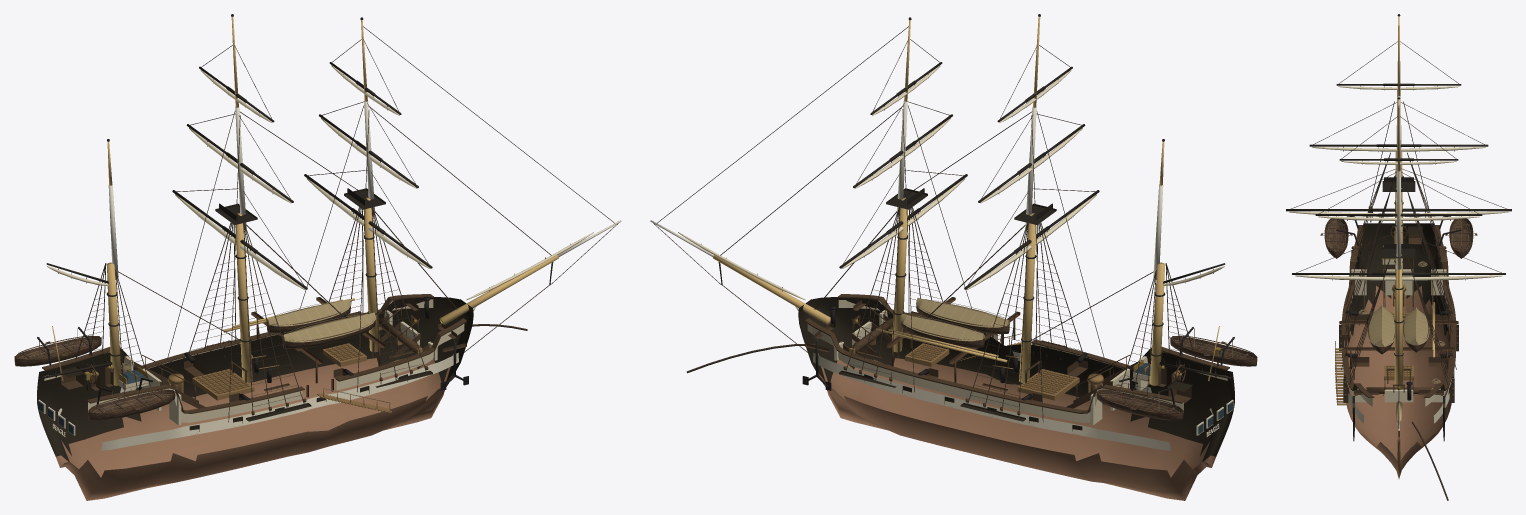
The model's file is hms-beagle-deck.glb.
The picture shows the model from 3 angles, left to right: view 1: azimuth 30°, elevation 25°; view 2: azimuth 150°, elevation 25°; view 3: azimuth 270°, elevation 25°; orthographic projection. The views are drawn at different scales.
Parts seen in each view (by area): view 1: BeagleHull, Beagle_RopeTar, Beagle_CapRail, Beagle_SparBuff, Beagle_BoatWood, Beagle_SparBlack, Beagle_BulwarkInner, Beagle_BandWhite, Beagle_Canvas, Beagle_BoatCanvas, Beagle_DeckTrim, Beagle_SparWhite (+4 smaller); view 2: BeagleHull, Beagle_RopeTar, Beagle_CapRail, Beagle_SparBuff, Beagle_BulwarkInner, Beagle_SparBlack, Beagle_BoatWood, Beagle_BandWhite, Beagle_Canvas, Beagle_BoatCanvas, Beagle_SparWhite, Beagle_DeckTrim (+4 smaller); view 3: BeagleHull, Beagle_RopeTar, Beagle_CapRail, Beagle_SparBlack, Beagle_Canvas, Beagle_SparBuff, Beagle_BoatWood, Beagle_BulwarkInner, Beagle_BoatCanvas, Beagle_BoatWoodDark, Beagle_DeckTrim, Beagle_IronBlack (+4 smaller).
Boxes of the visible parts, bbox=[...] form: BeagleHull: bbox=[37, 297, 473, 500]; Beagle_RopeTar: bbox=[58, 26, 618, 422]; Beagle_CapRail: bbox=[42, 294, 466, 414]; Beagle_SparBuff: bbox=[52, 16, 558, 385]; Beagle_BoatWood: bbox=[14, 306, 375, 420]; Beagle_SparBlack: bbox=[40, 14, 553, 379]; Beagle_BulwarkInner: bbox=[44, 299, 464, 425]; Beagle_BandWhite: bbox=[38, 306, 476, 450]; Beagle_Canvas: bbox=[47, 65, 593, 300]; Beagle_BoatCanvas: bbox=[266, 299, 376, 342]; Beagle_DeckTrim: bbox=[92, 318, 422, 412]; Beagle_SparWhite: bbox=[108, 101, 621, 278]; BeagleHull: bbox=[798, 297, 1234, 500]; Beagle_RopeTar: bbox=[653, 26, 1213, 422]; Beagle_CapRail: bbox=[805, 294, 1229, 414]; Beagle_SparBuff: bbox=[713, 16, 1219, 385]; Beagle_BulwarkInner: bbox=[807, 300, 1227, 425]; Beagle_SparBlack: bbox=[718, 14, 1231, 379]; Beagle_BoatWood: bbox=[901, 305, 1257, 420]; Beagle_BandWhite: bbox=[795, 306, 1233, 450]; Beagle_Canvas: bbox=[678, 65, 1224, 300]; Beagle_BoatCanvas: bbox=[900, 297, 1009, 341]; Beagle_SparWhite: bbox=[650, 101, 1163, 278]; Beagle_DeckTrim: bbox=[849, 327, 1179, 400]; BeagleHull: bbox=[1343, 223, 1454, 478]; Beagle_RopeTar: bbox=[1290, 41, 1507, 500]; Beagle_CapRail: bbox=[1339, 225, 1458, 407]; Beagle_SparBlack: bbox=[1286, 14, 1511, 436]; Beagle_Canvas: bbox=[1289, 86, 1508, 422]; Beagle_SparBuff: bbox=[1394, 16, 1435, 422]; Beagle_BoatWood: bbox=[1320, 218, 1477, 354]; Beagle_BulwarkInner: bbox=[1350, 244, 1447, 406]; Beagle_BoatCanvas: bbox=[1367, 305, 1429, 346]; Beagle_BoatWoodDark: bbox=[1324, 216, 1473, 368]; Beagle_DeckTrim: bbox=[1335, 284, 1433, 405]; Beagle_IronBlack: bbox=[1336, 175, 1461, 441].
Size of the model in its own units: 38.22 by 28.5 by 15.2.
Materials: 20 (2 with a texture image).
